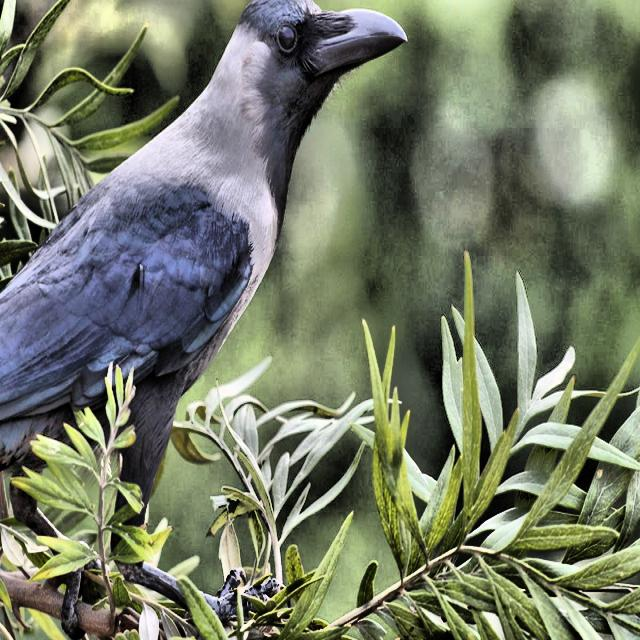crow: (0, 1, 415, 640)
